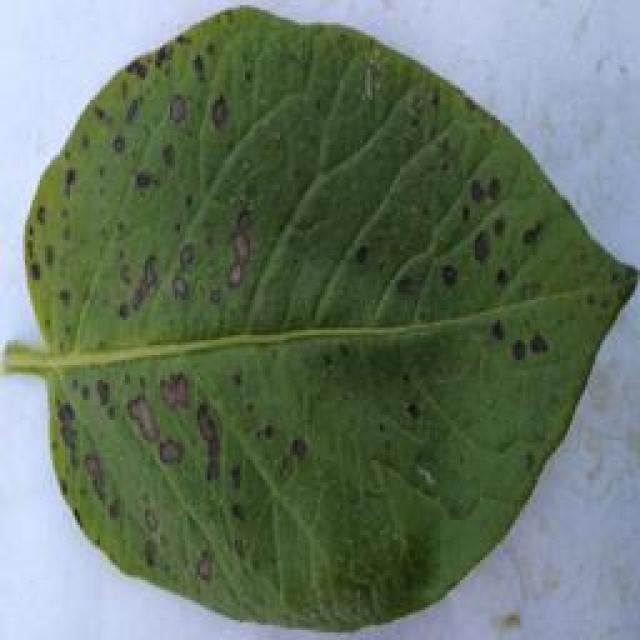Potato_Early_Blight: (14, 0, 638, 634)
